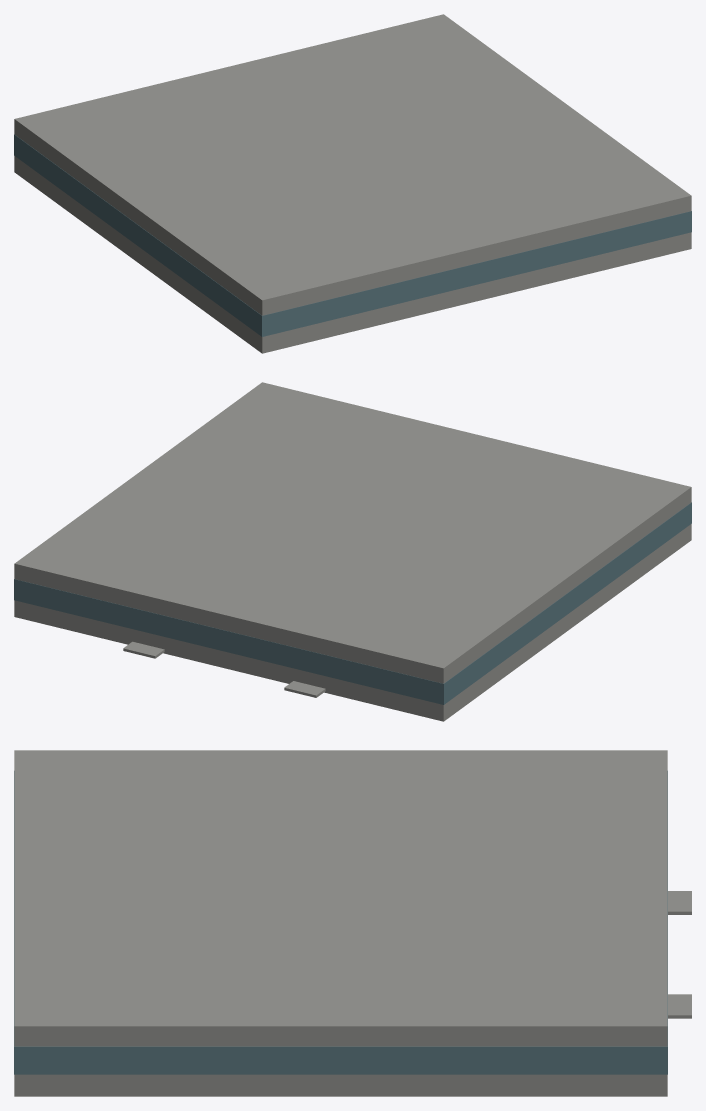
The model's file is tw_slab_32_floor_b_lod1.glb.
The picture shows the model from 3 angles, top to bottom: view 1: azimuth 30°, elevation 25°; view 2: azimuth 150°, elevation 25°; view 3: azimuth 270°, elevation 25°; orthographic projection. The views are drawn at different scales.
Parts seen in each view (by area): view 1: tw_slab_32_floor_b_lod1; view 2: tw_slab_32_floor_b_lod1; view 3: tw_slab_32_floor_b_lod1.
Part boxes in pixels (left/top/right/bottom): tw_slab_32_floor_b_lod1: left=14, top=14, right=691, bottom=353; tw_slab_32_floor_b_lod1: left=14, top=382, right=691, bottom=721; tw_slab_32_floor_b_lod1: left=14, top=750, right=691, bottom=1096.
Bounding box in the file's own units: 32.04 × 3.8 × 33.22.
Materials: 2 (2 with a texture image).
